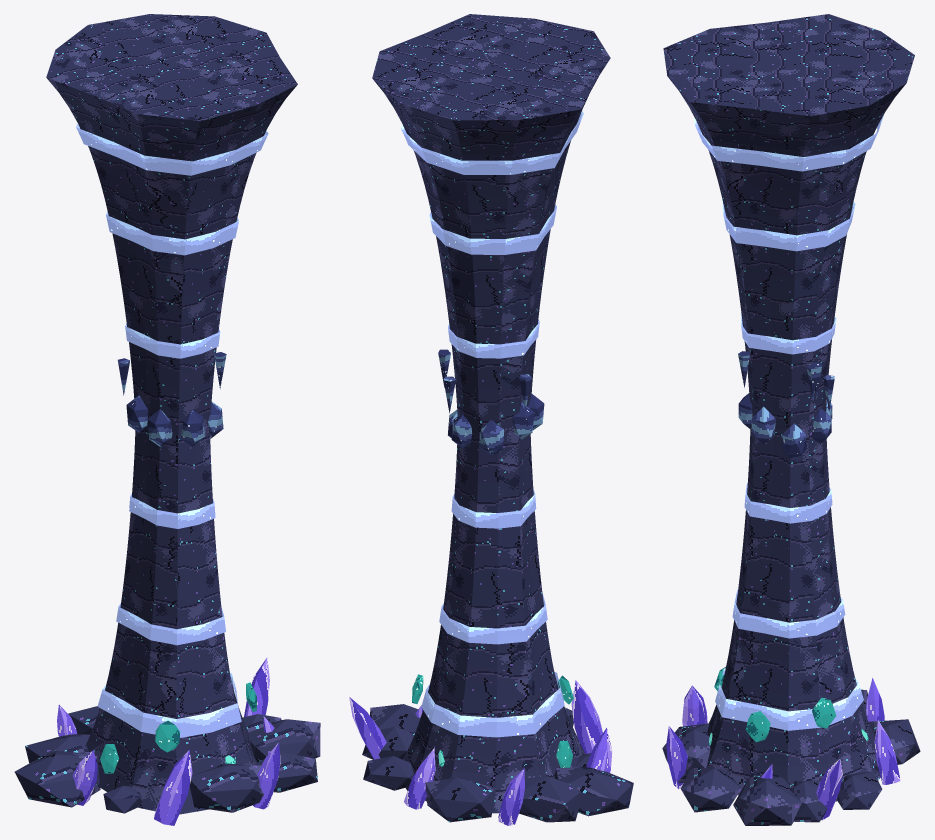
Rendered from cave_column.glb.
The picture shows the model from 3 angles, left to right: view 1: azimuth 30°, elevation 25°; view 2: azimuth 150°, elevation 25°; view 3: azimuth 270°, elevation 25°; orthographic projection.
Parts seen in each view (by area): view 1: Column3, Scree, Crystal, Knuckles, WetBand5, WetBand0, WetBand4, WetBand1, WetBand2, WetBand3, MossGlow; view 2: Column3, Scree, Crystal, Knuckles, WetBand0, WetBand5, WetBand4, WetBand1, WetBand2, WetBand3, MossGlow; view 3: Column3, Scree, Crystal, Knuckles, WetBand5, WetBand0, WetBand4, WetBand1, WetBand2, WetBand3, MossGlow.
Part boxes in pixels (<box>): Column3: <box>46,14,297,814</box>; Scree: <box>14,706,320,813</box>; Crystal: <box>57,657,280,825</box>; Knuckles: <box>117,352,226,446</box>; WetBand5: <box>76,123,268,175</box>; WetBand0: <box>97,673,241,737</box>; WetBand4: <box>106,211,238,255</box>; WetBand1: <box>116,603,225,645</box>; WetBand2: <box>129,494,215,528</box>; WetBand3: <box>125,323,220,358</box>; MossGlow: <box>100,682,256,773</box>; Column3: <box>372,14,610,813</box>; Scree: <box>362,704,633,822</box>; Crystal: <box>349,680,612,825</box>; Knuckles: <box>438,349,544,455</box>; WetBand0: <box>421,672,564,737</box>; WetBand5: <box>401,111,583,174</box>; WetBand4: <box>429,204,556,254</box>; WetBand1: <box>439,593,547,644</box>; WetBand2: <box>451,489,536,528</box>; WetBand3: <box>448,319,539,358</box>; MossGlow: <box>412,674,573,767</box>; Column3: <box>663,14,914,801</box>; Scree: <box>662,689,920,825</box>; Crystal: <box>666,678,900,820</box>; Knuckles: <box>738,351,834,460</box>; WetBand5: <box>694,114,884,171</box>; WetBand0: <box>715,668,863,730</box>; WetBand4: <box>722,200,855,251</box>; WetBand1: <box>732,589,845,638</box>; WetBand2: <box>744,482,832,523</box>; WetBand3: <box>741,314,836,354</box>; MossGlow: <box>709,667,868,745</box>.
Size of the model in its own units: 5.75 by 14.14 by 4.69.
5 materials, 5 textured.
